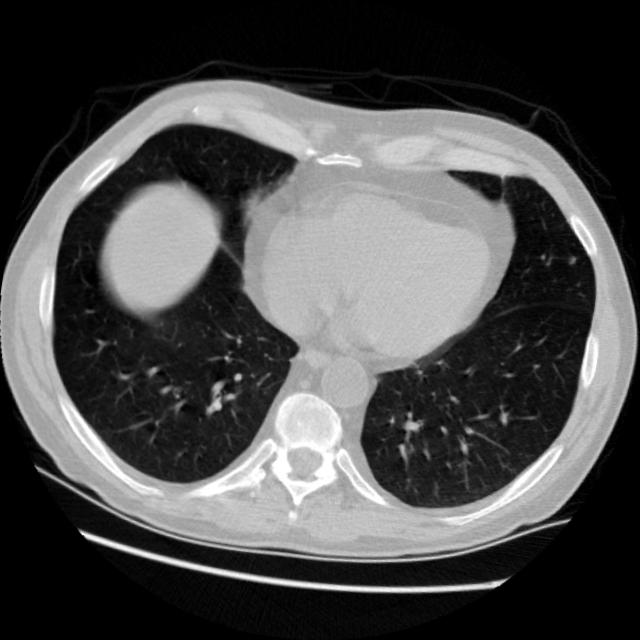nodule: (558, 247, 584, 272)
